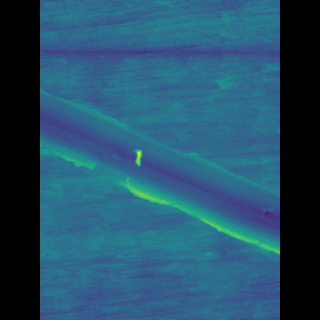Loch: (70, 88, 250, 256)
